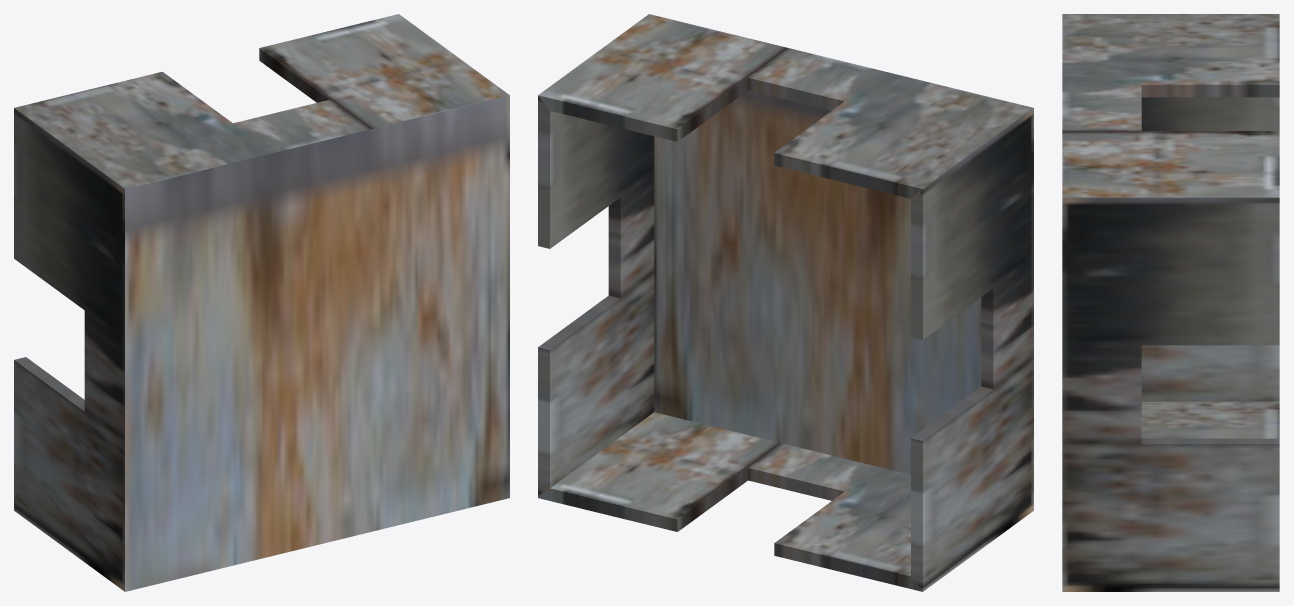
The model's file is 4x4NSEW_wtf.obj.
The picture shows the model from 3 angles, left to right: view 1: azimuth 30°, elevation 25°; view 2: azimuth 150°, elevation 25°; view 3: azimuth 270°, elevation 25°; orthographic projection. The views are drawn at different scales.
Parts seen in each view (by area): view 1: group2; view 2: group2; view 3: group2.
Part boxes in pixels (x1,y1,x2,y2): group2: (14,14,509,591); group2: (538,14,1033,591); group2: (1062,14,1279,591).
Bounding box in the file's own units: 660 × 660 × 330.
